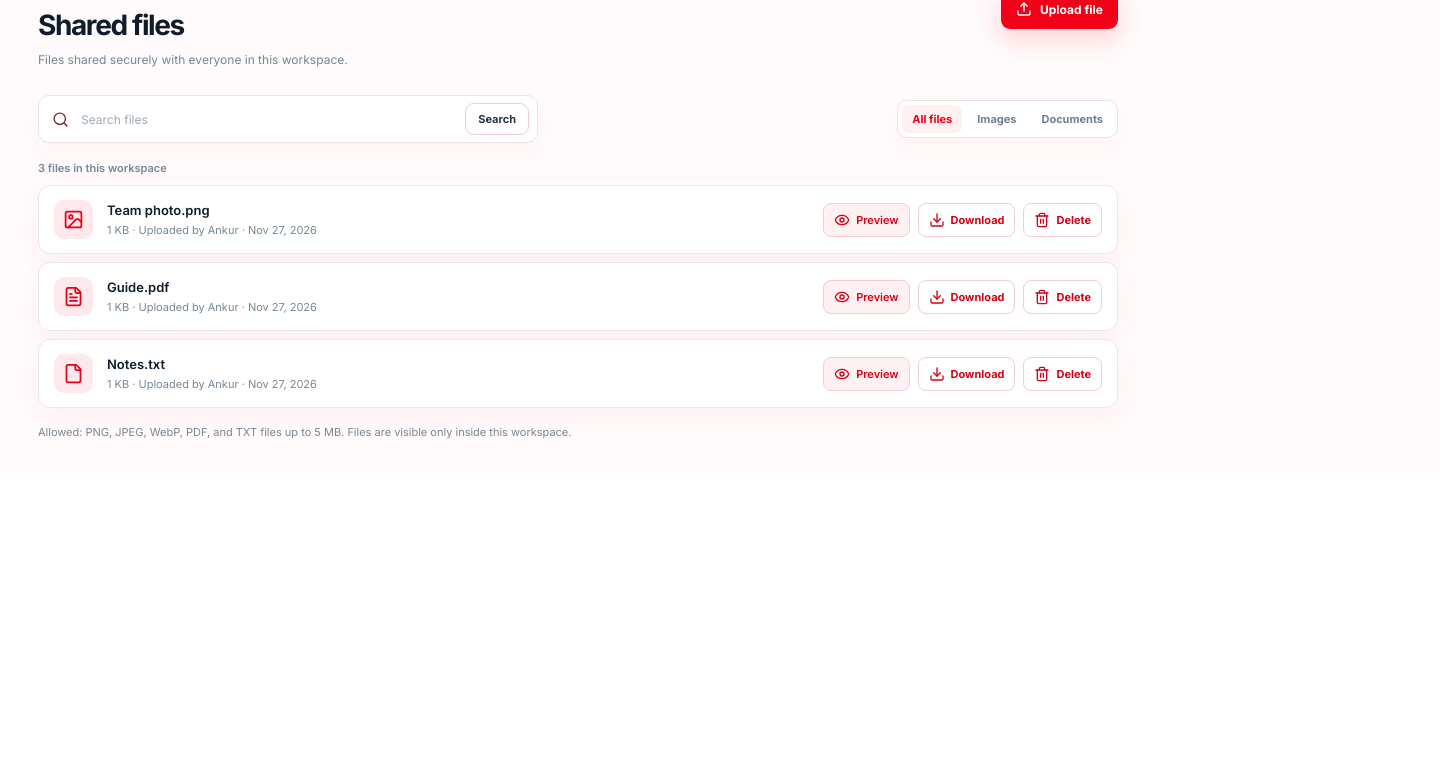
Shared file previews › previews images through the authenticated endpoint and preserves download
This screenshot has width=1440, height=769.
Click the button with aria-label "Open preview of Team photo.png" at (866, 220), box [823,203,910,237]
(page scrolled)
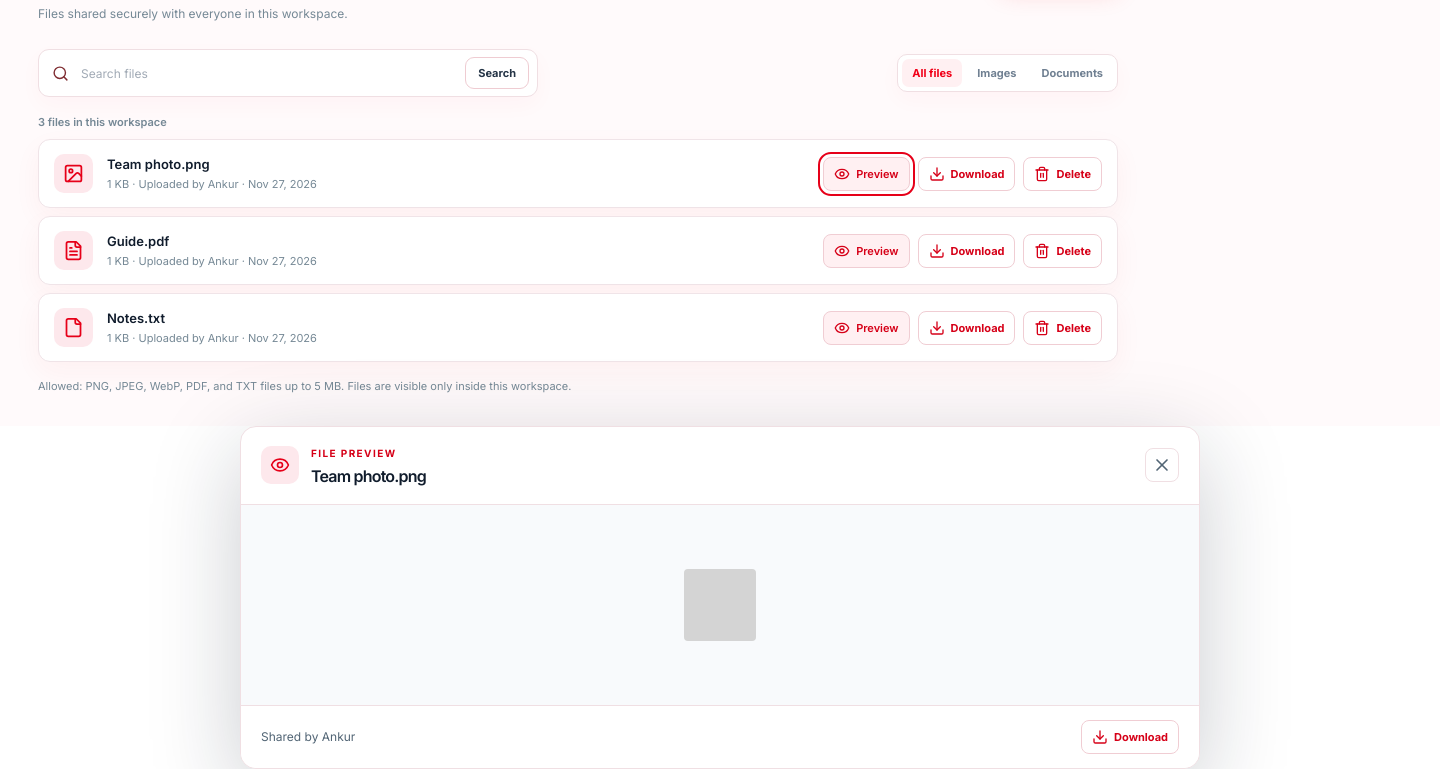
Click the button "Download" in the row of "Shared by Ankur" at (1130, 737), box [1081,720,1179,754]
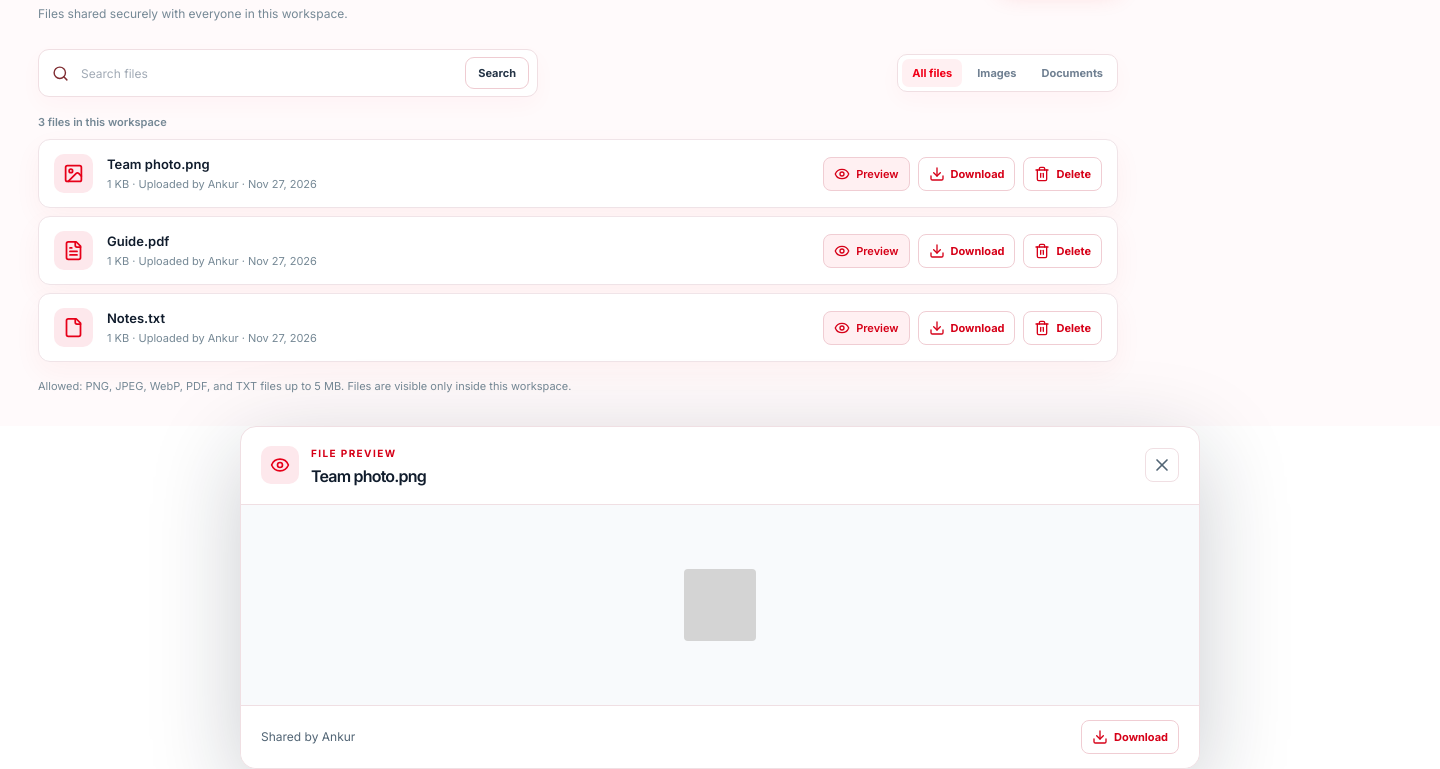
Click the button named "Close file preview" at (1162, 465), box [1145,448,1179,482]
(page scrolled)
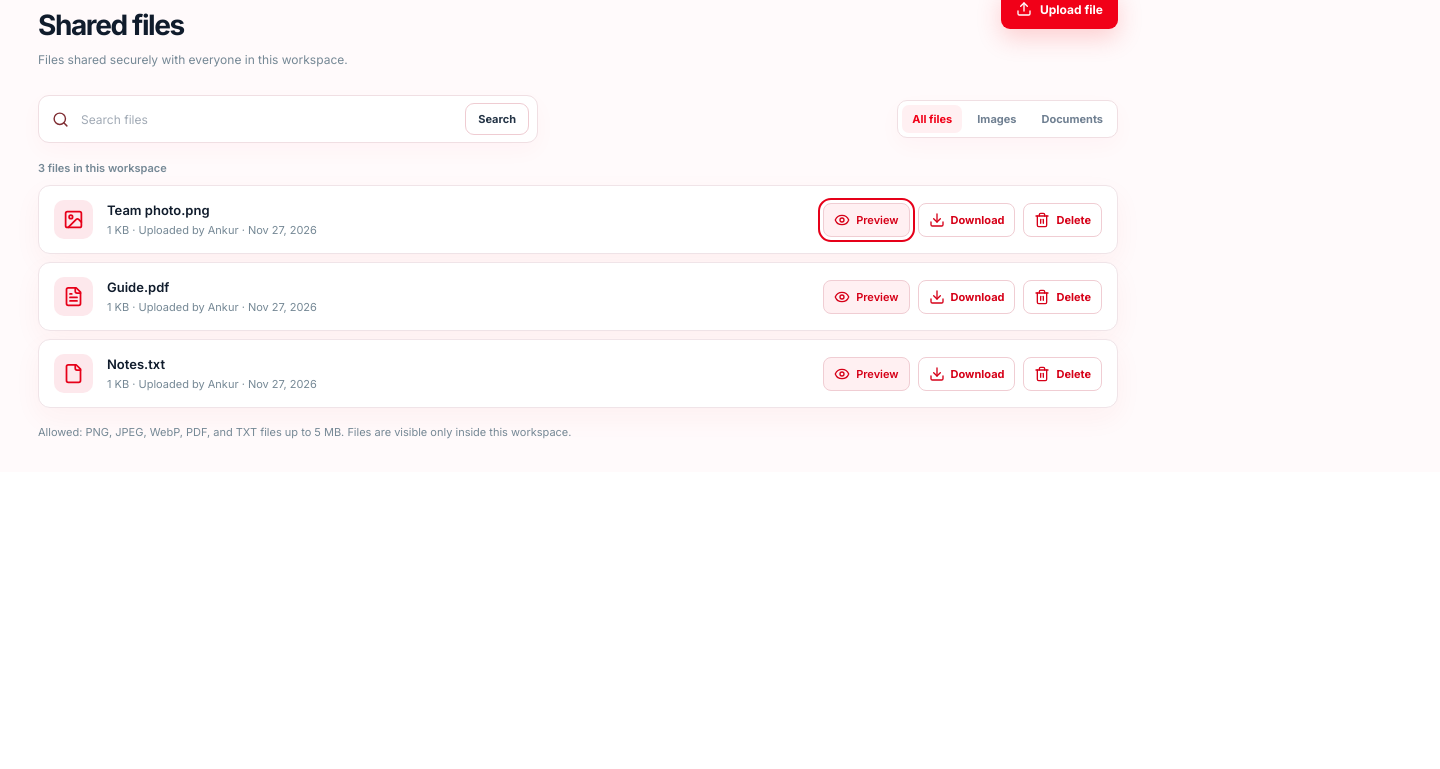
Result: the dialog is gone
